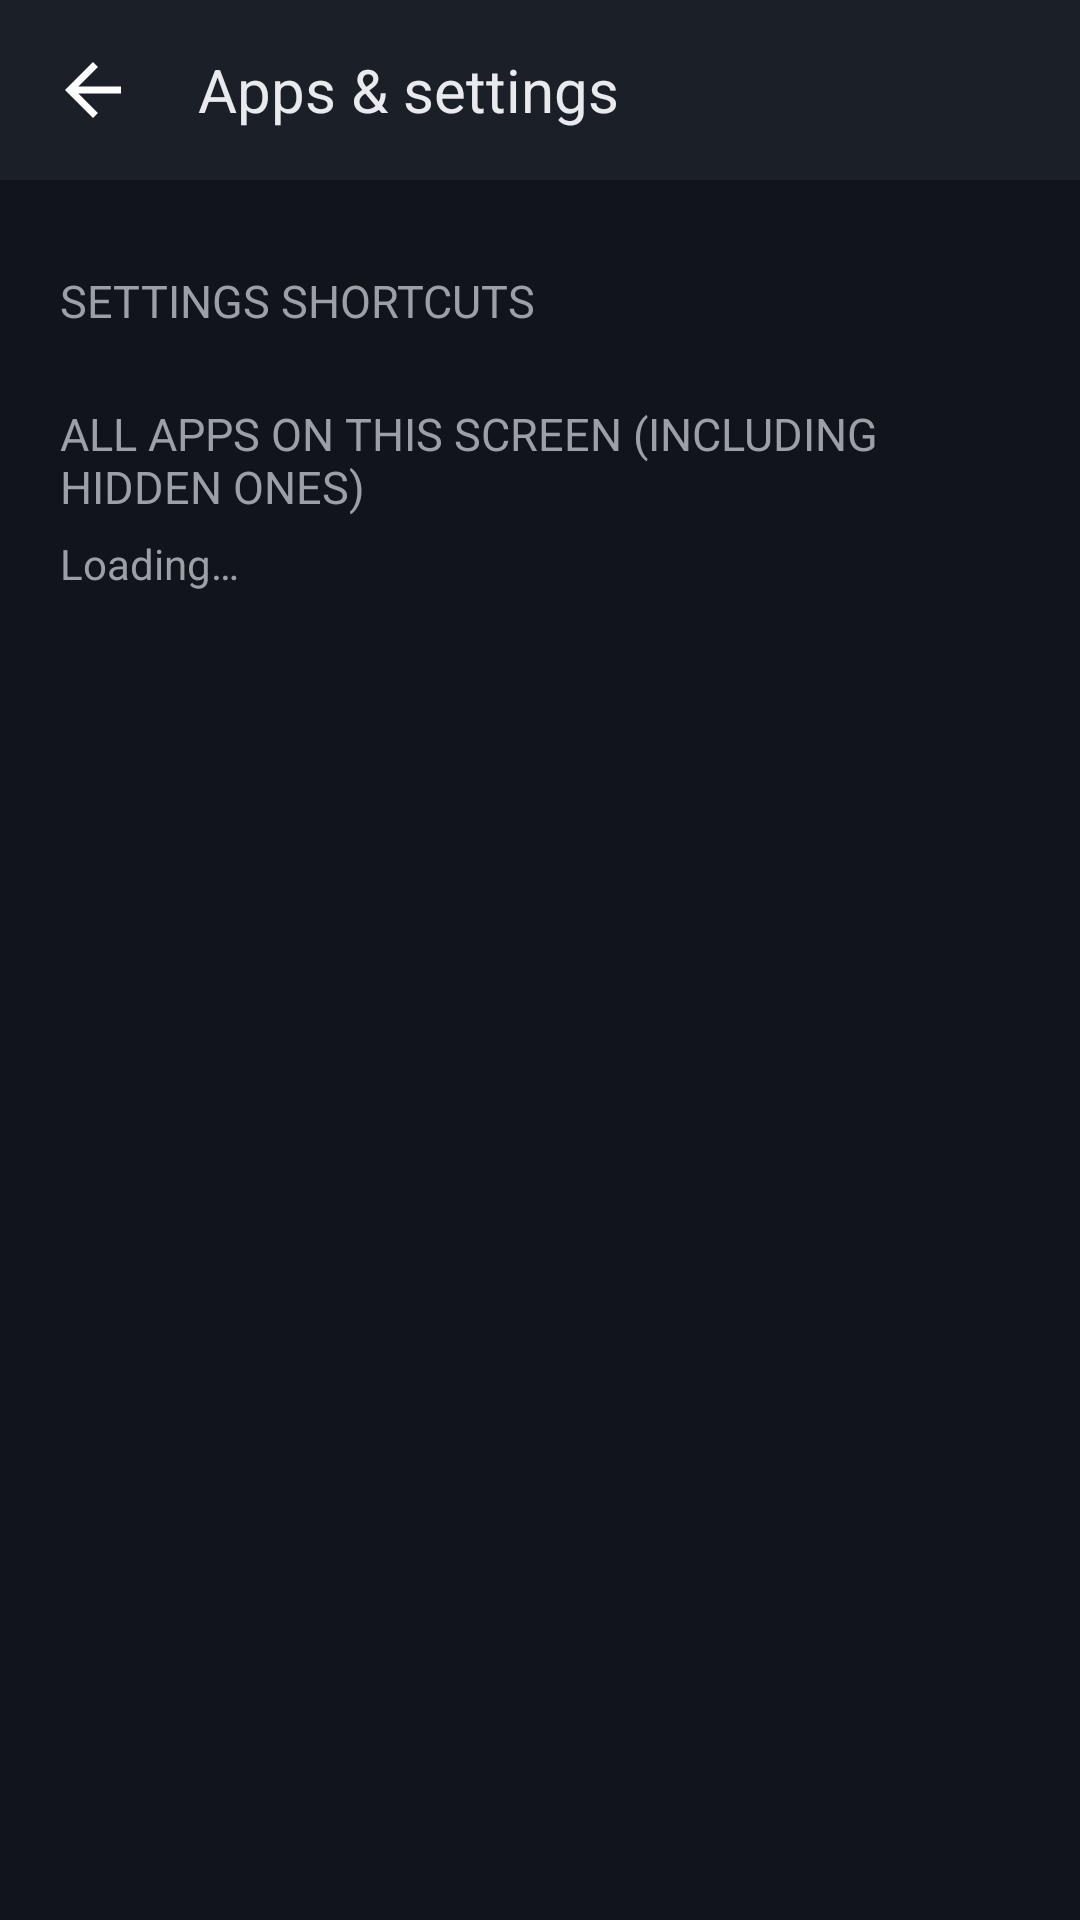

Icons on this 1080×1920 Android screen, each with its box as (x1, y1, x2, y2):
Back: (65, 62, 121, 118)
